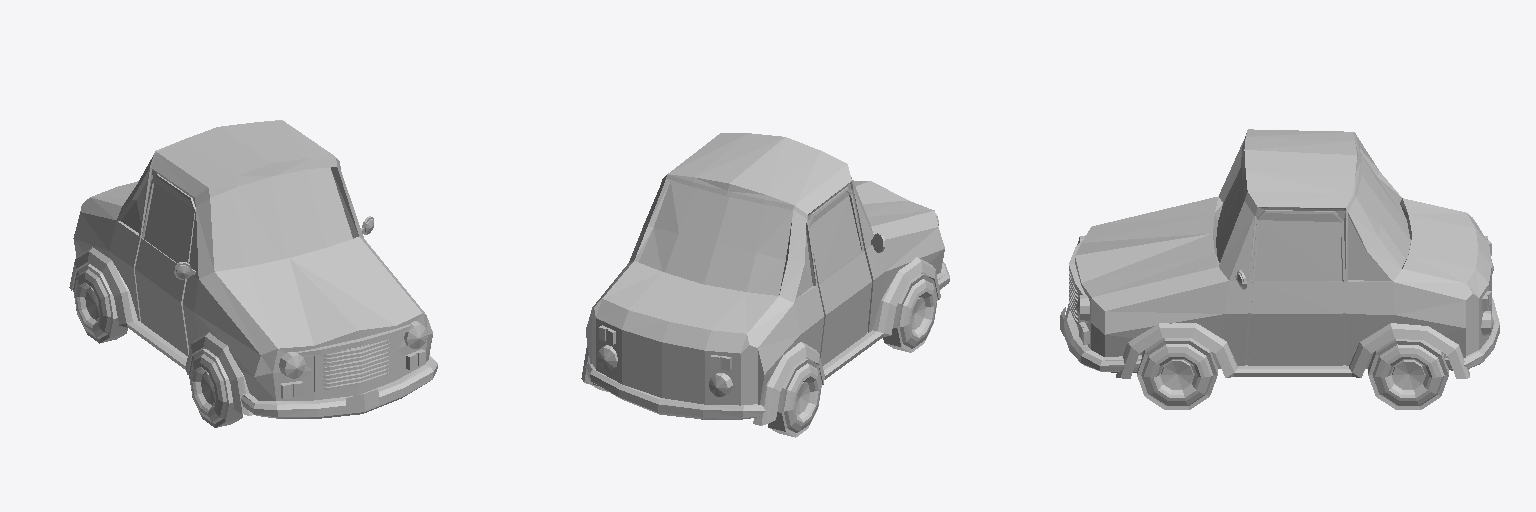
Rendered from car.obj.
3 views of the same model, side by side, from view 1: azimuth 30°, elevation 25°; view 2: azimuth 150°, elevation 25°; view 3: azimuth 270°, elevation 25° (orthographic).
Visible parts, largest first — view 1: Car; view 2: Car; view 3: Car.
Boxes of the visible parts, <box> form: Car: <box>69,120,437,427</box>; Car: <box>581,133,949,437</box>; Car: <box>1060,129,1499,409</box>.
Size of the model in its own units: 2.34 by 2.3 by 4.32.